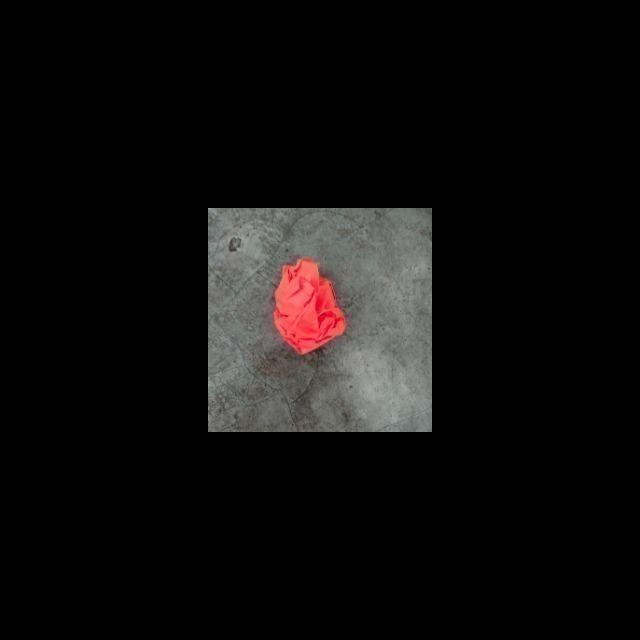paper: (258, 238, 360, 369)
